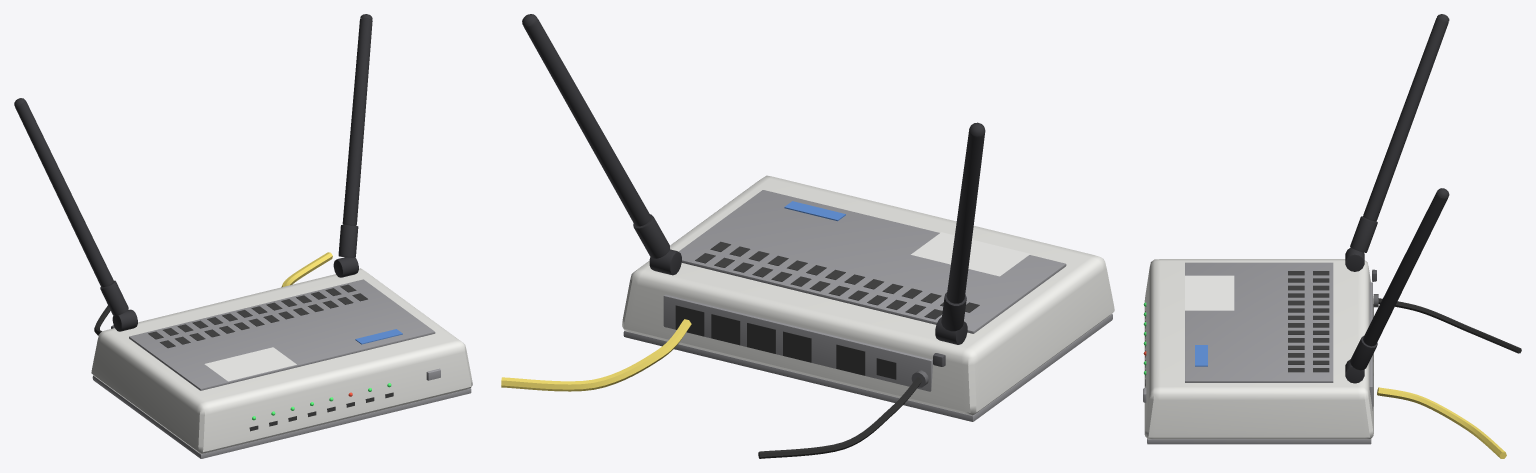
The model's file is electronics_router.fbx.
3 renders of one model, left to right at view 1: azimuth 30°, elevation 25°; view 2: azimuth 150°, elevation 25°; view 3: azimuth 270°, elevation 25°, orthographic. The views are drawn at different scales.
Parts seen in each view (by area): view 1: electronics_router; view 2: electronics_router; view 3: electronics_router.
Boxes of the visible parts, <box> form: electronics_router: <box>14,14,472,458</box>; electronics_router: <box>501,14,1114,458</box>; electronics_router: <box>1143,14,1521,458</box>.
Bounding box in the file's own units: 0.2582 × 0.1866 × 0.2296.
